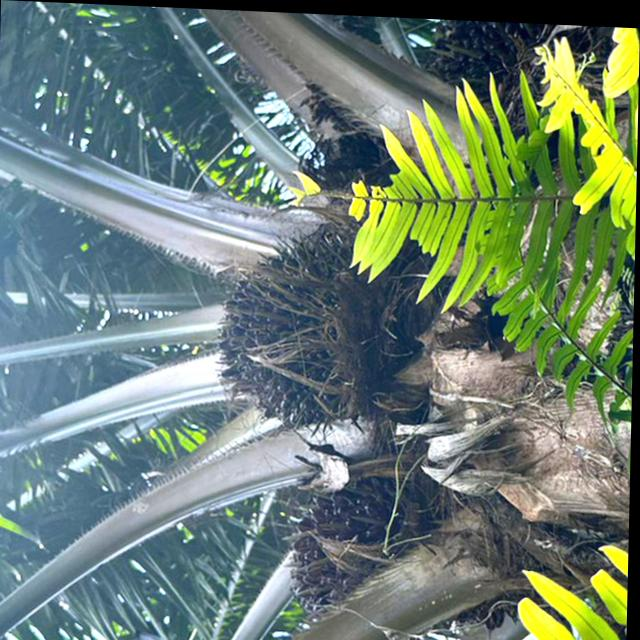unripe: (196, 225, 382, 438)
